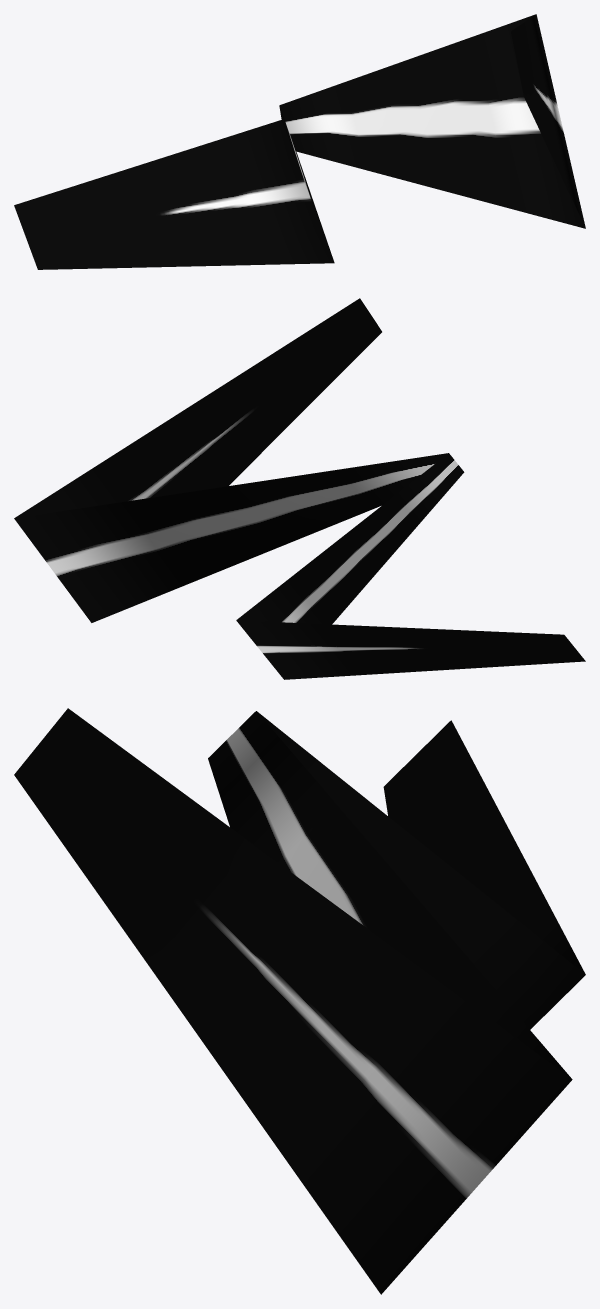
File: x1_fx_modle_0111.fbx
3 views of the same model, one above another, from view 1: azimuth 30°, elevation 25°; view 2: azimuth 150°, elevation 25°; view 3: azimuth 270°, elevation 25° (orthographic). The views are drawn at different scales.
Parts seen in each view (by area): view 1: BezierCurve; view 2: BezierCurve; view 3: BezierCurve.
Boxes of the visible parts, left/top/right/bottom form: BezierCurve: left=14, top=14, right=585, bottom=269; BezierCurve: left=14, top=298, right=585, bottom=679; BezierCurve: left=14, top=708, right=585, bottom=1294.
Size of the model in its own units: 621 by 340 by 384.
